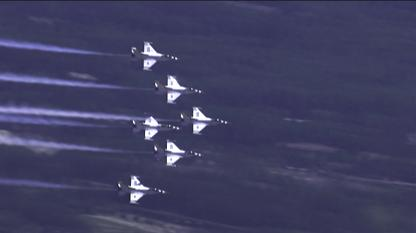F14: (118, 174, 170, 204), (154, 74, 206, 104), (130, 40, 180, 70), (180, 106, 233, 134), (153, 138, 205, 166), (132, 112, 182, 140)
